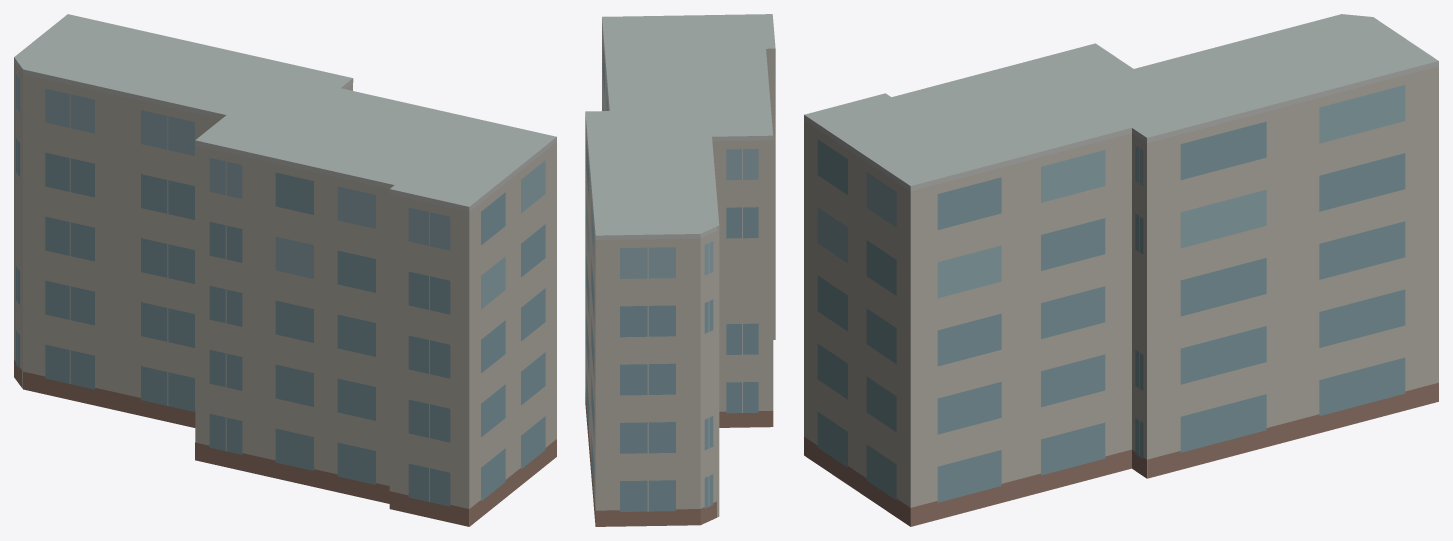
File: survey-upis-32952829.glb
3 views of the same model, side by side, from view 1: azimuth 30°, elevation 25°; view 2: azimuth 150°, elevation 25°; view 3: azimuth 270°, elevation 25° (orthographic). The views are drawn at different scales.
Visible parts, largest first — view 1: survey-upis-32952829.tmp; view 2: survey-upis-32952829.tmp; view 3: survey-upis-32952829.tmp.
Part boxes in pixels (box(x1,y1,x2,y2)): survey-upis-32952829.tmp: box(14, 14, 556, 526); survey-upis-32952829.tmp: box(585, 14, 775, 526); survey-upis-32952829.tmp: box(804, 14, 1438, 526).
Bounding box in the file's own units: 16.91 × 15.6 × 26.34.
